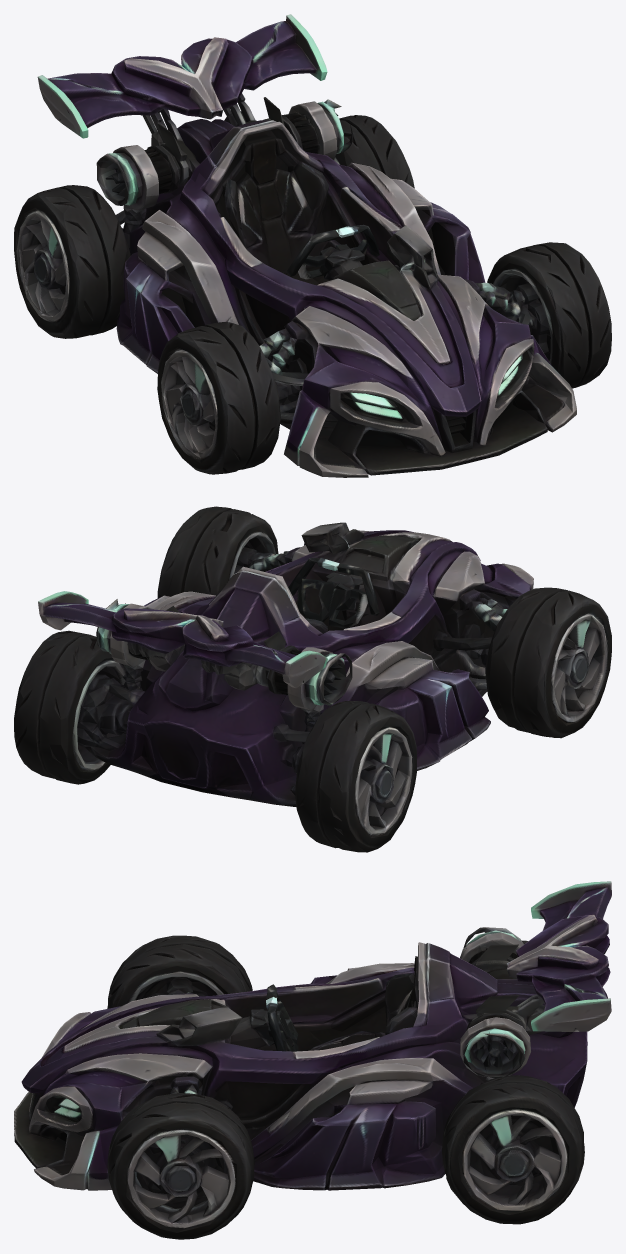
The model's file is 05-violet-nautilus-pbr.glb.
3 views of the same model, one above another, from view 1: azimuth 30°, elevation 25°; view 2: azimuth 150°, elevation 25°; view 3: azimuth 270°, elevation 25° (orthographic). The views are drawn at different scales.
Parts seen in each view (by area): view 1: model; view 2: model; view 3: model.
Part boxes in pixels (box(x1,y1,x2,y2)): model: box(14, 14, 611, 477); model: box(14, 506, 611, 852); model: box(14, 881, 611, 1239).
Bounding box in the file's own units: 1.41 × 0.7509 × 1.9.
1 material, 1 textured.
